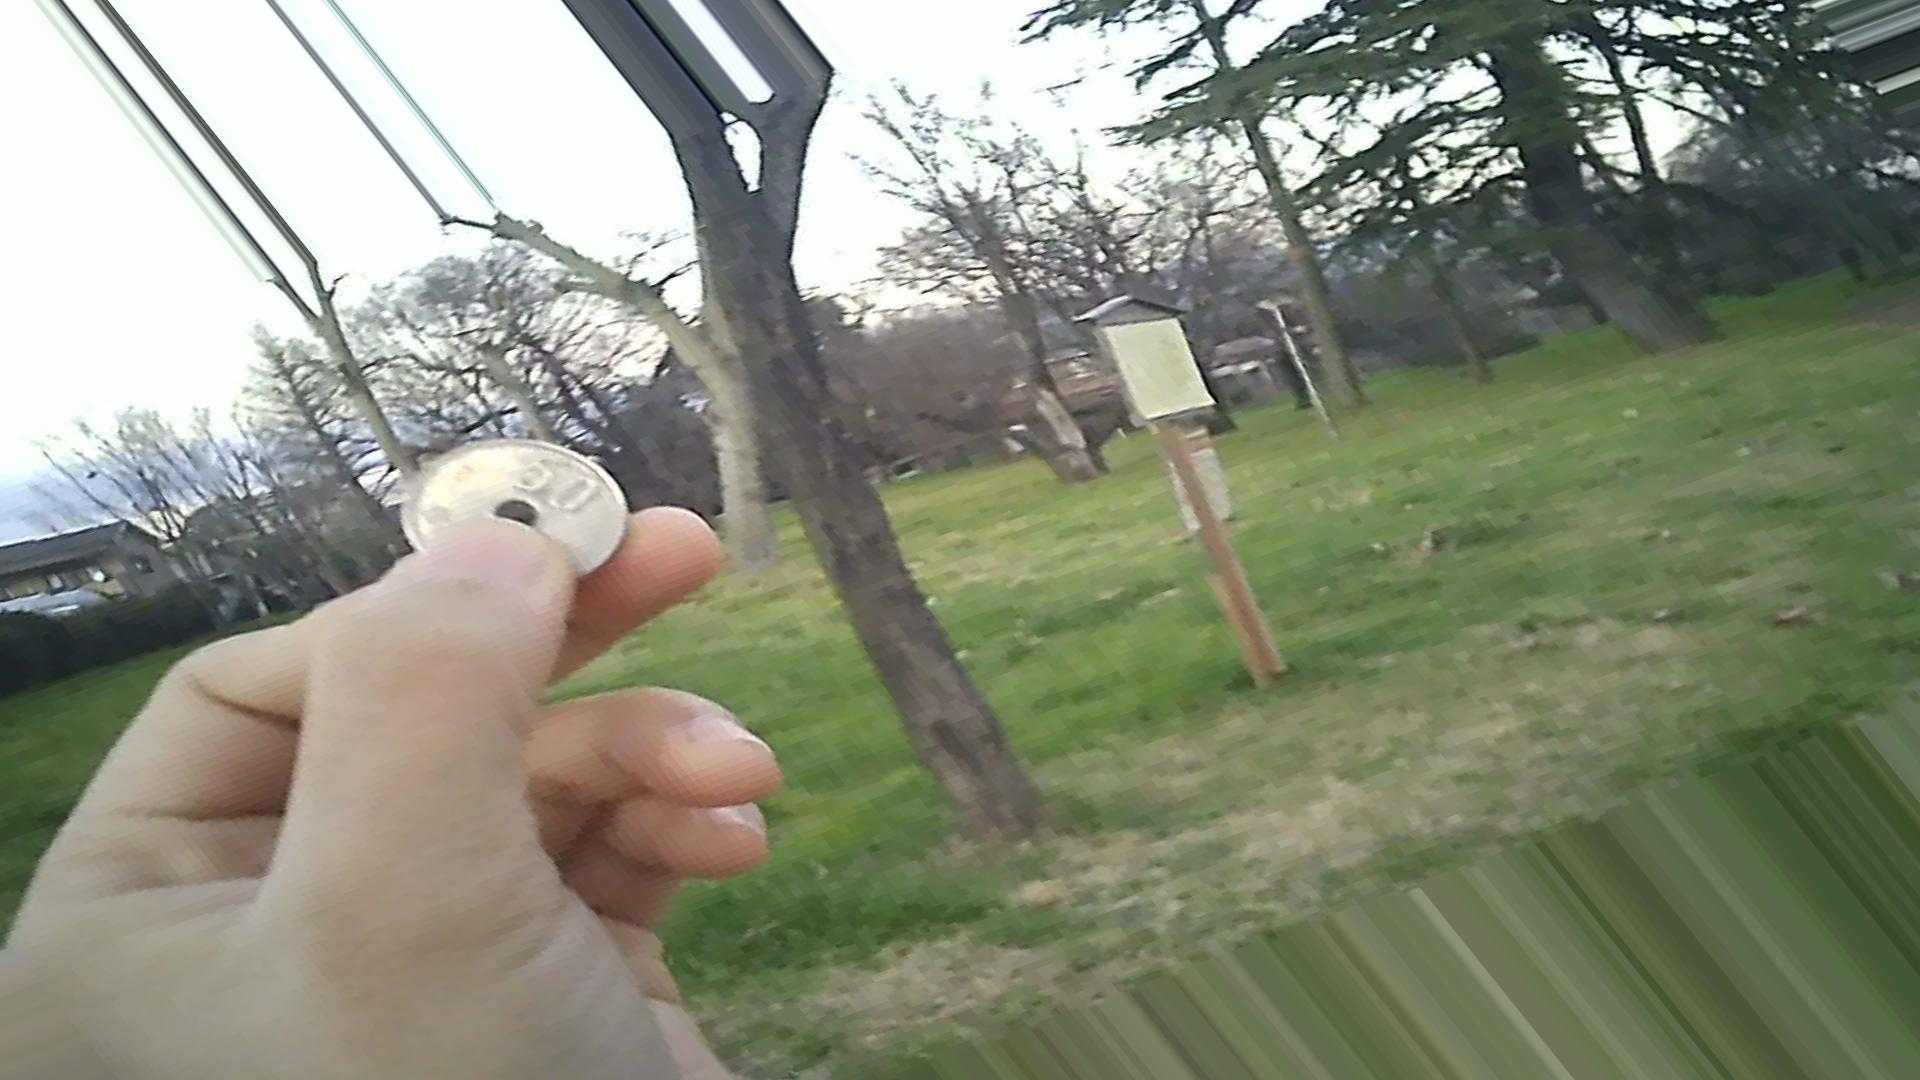50 Yen: (394, 442, 625, 597)
